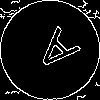A: (25, 25, 82, 82)
